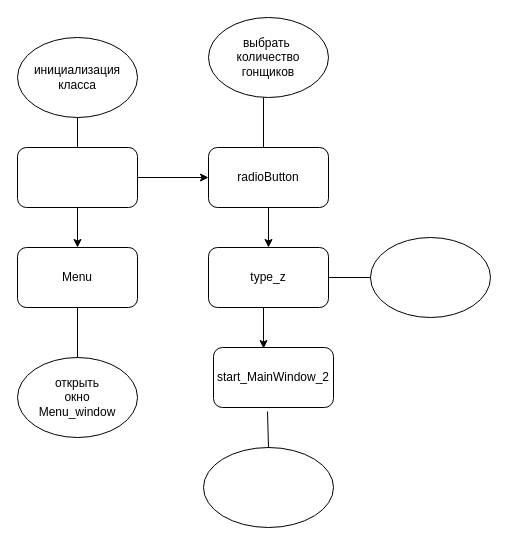
Image size: 508x545. Some labels were removed from this diagram. The centre of each missing label's shape, as x and y in pixels:
__Init__: the point at 77,177
выбрать тип заезда: the point at 430,277
открыть окно MainWindow_2: the point at 268,487
